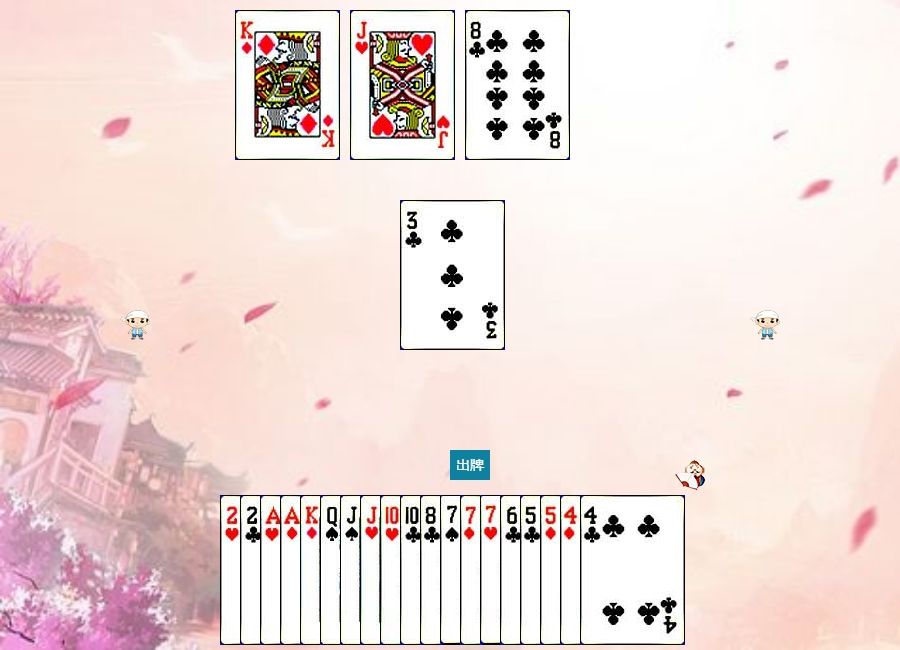10~2: (400, 495, 505, 645)
10~3: (380, 495, 485, 645)
11~3: (350, 10, 455, 160), (360, 495, 465, 645)
11~4: (340, 495, 445, 645)
12~4: (320, 495, 425, 645)
13~1: (235, 10, 340, 160), (300, 495, 405, 645)
14~1: (280, 495, 385, 645)
14~3: (260, 495, 365, 645)
15~2: (240, 495, 345, 645)
15~3: (220, 495, 325, 645)
3~2: (400, 200, 505, 350)
4~1: (560, 495, 665, 645)
4~2: (580, 495, 685, 645)
5~1: (540, 495, 645, 645)
5~2: (520, 495, 625, 645)
6~2: (500, 495, 605, 645)
7~1: (460, 495, 565, 645)
7~3: (480, 495, 585, 645)
7~4: (440, 495, 545, 645)
8~2: (465, 10, 570, 160), (420, 495, 525, 645)
